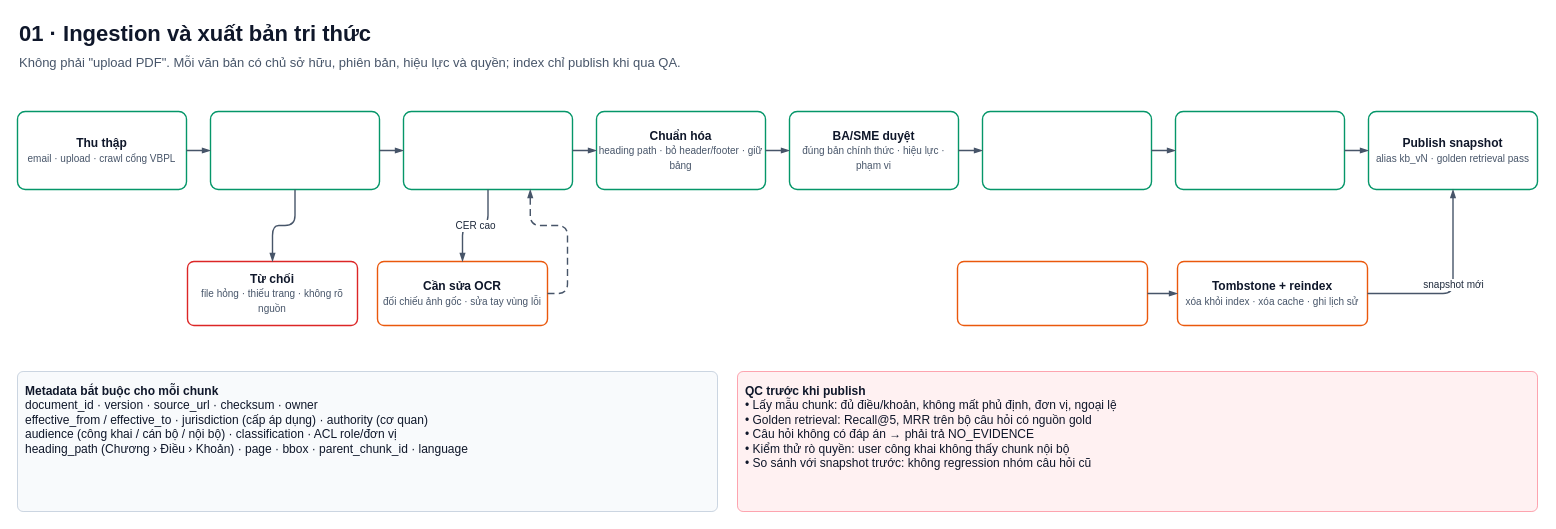
Some shapes in this 1556 by 529 pixel diagram are drawn without their labels. The centre of each missing label's shape, as x and y in pixels:
Chunk & metadata theo điều/khoản · 400–800 token · parent–child: pixel 1066 150
Embed & index bge-m3 → Qdrant · BM25 → OpenSearch: pixel 1259 150
Hết hiệu lực / bị thay thế văn bản mới ban hành: pixel 1052 293
Kiểm tra ClamAV · SHA-256 trùng · số trang: pixel 294 150
Trích xuất Tika (PDF text) · PaddleOCR (scan) · PP-Structure (bảng): pixel 487 150
